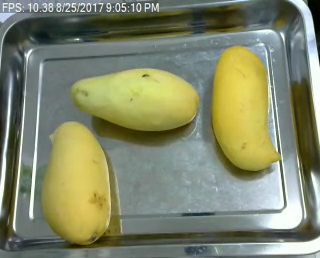Mango: (208, 42, 288, 171), (69, 62, 201, 131), (41, 120, 113, 246)
